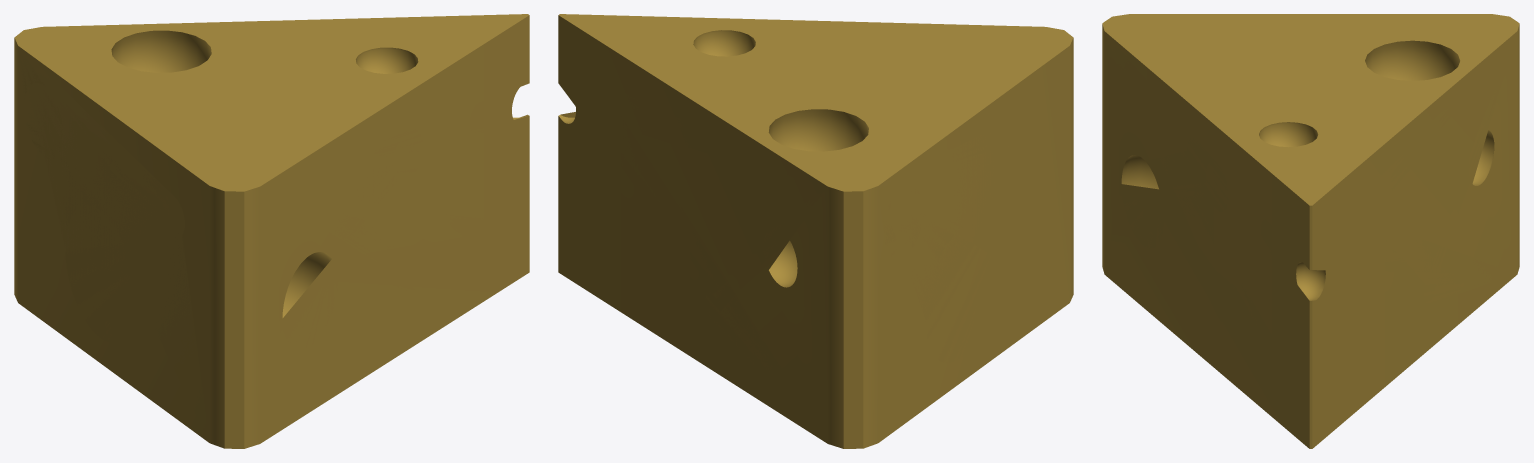
Rendered from cheese_slice.fbx.
3 views of the same model, side by side, from view 1: azimuth 30°, elevation 25°; view 2: azimuth 150°, elevation 25°; view 3: azimuth 270°, elevation 25° (orthographic). The views are drawn at different scales.
Visible parts, largest first — view 1: pCube5; view 2: pCube5; view 3: pCube5.
Boxes of the visible parts, box(x1,y1,x2,y2) form: pCube5: box(14, 14, 529, 448); pCube5: box(558, 14, 1073, 448); pCube5: box(1102, 14, 1519, 448).
Size of the model in its own units: 3.02 by 1.79 by 2.78.
